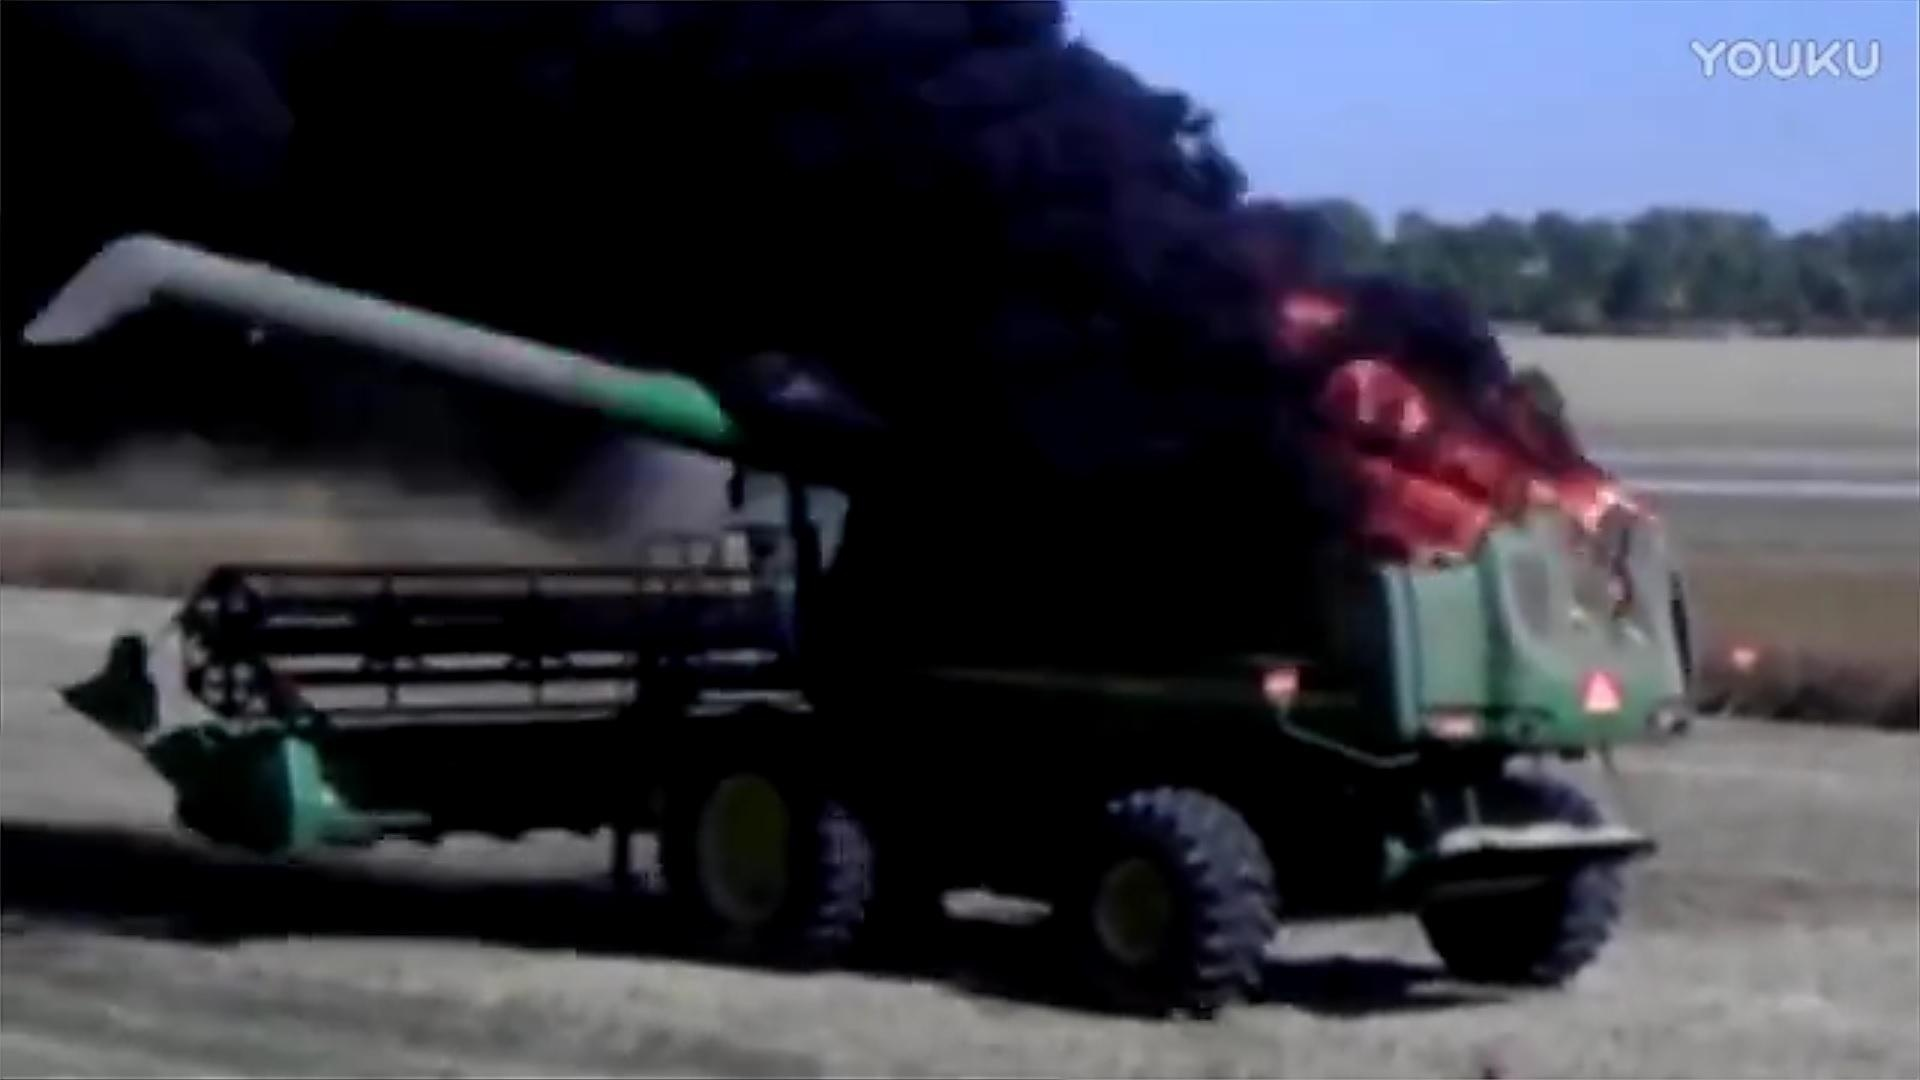fire: (1312, 345, 1633, 554)
